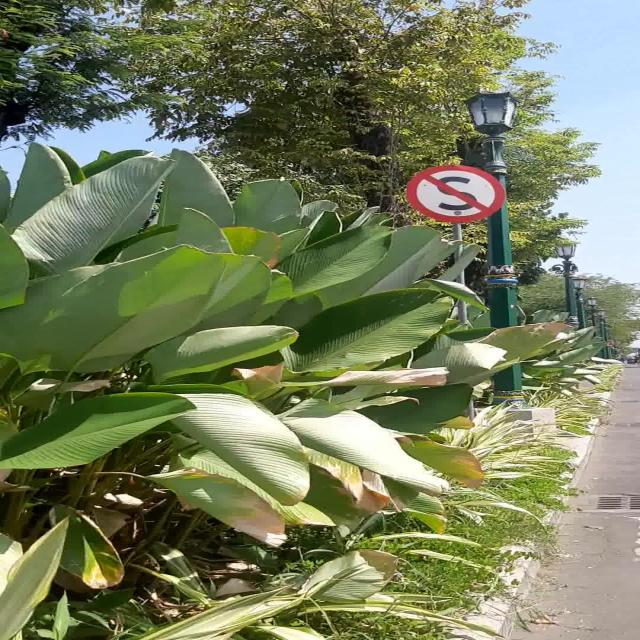Dilarang Berhenti: (406, 165, 504, 222)
